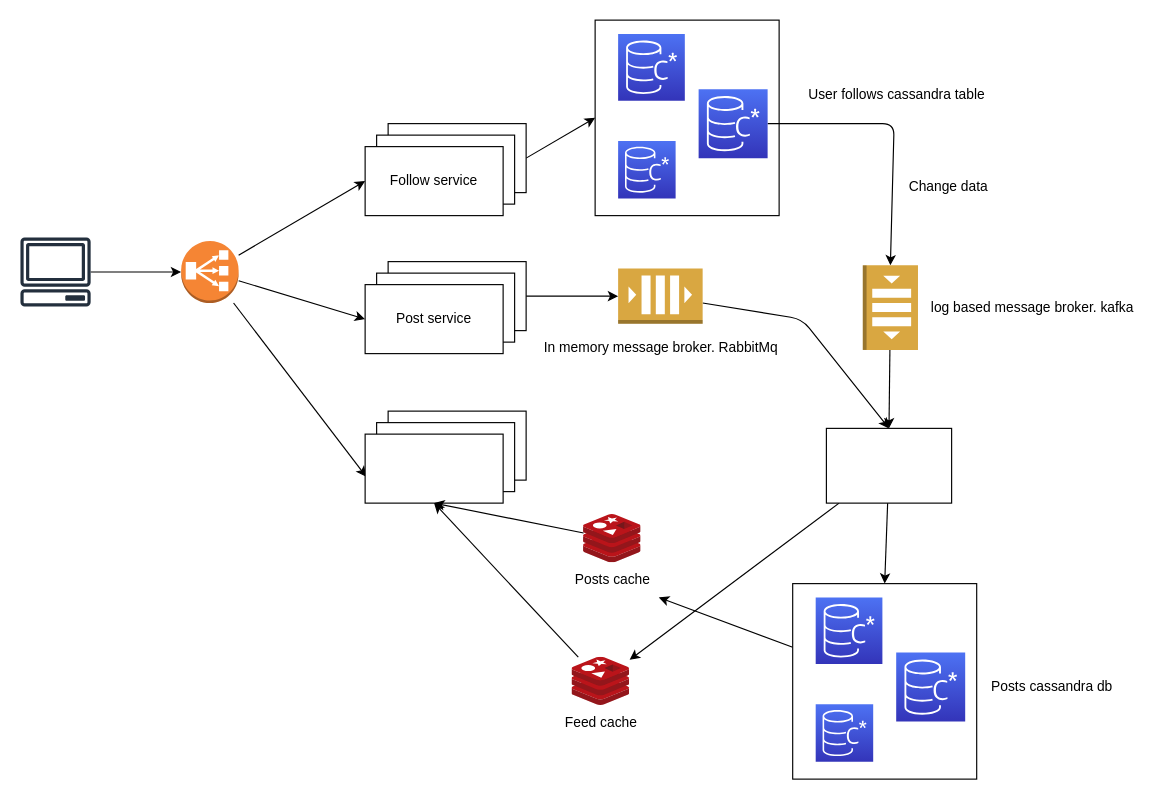
Some shapes in this 1166 by 799 pixel diagram are drawn without their labels. The shapes that lost their labels are listed below. From the top down, each one's centre as x and y in pixels, then its label:
pixel 433 468: Feed service
pixel 888 465: Distributed apache flink consumers
